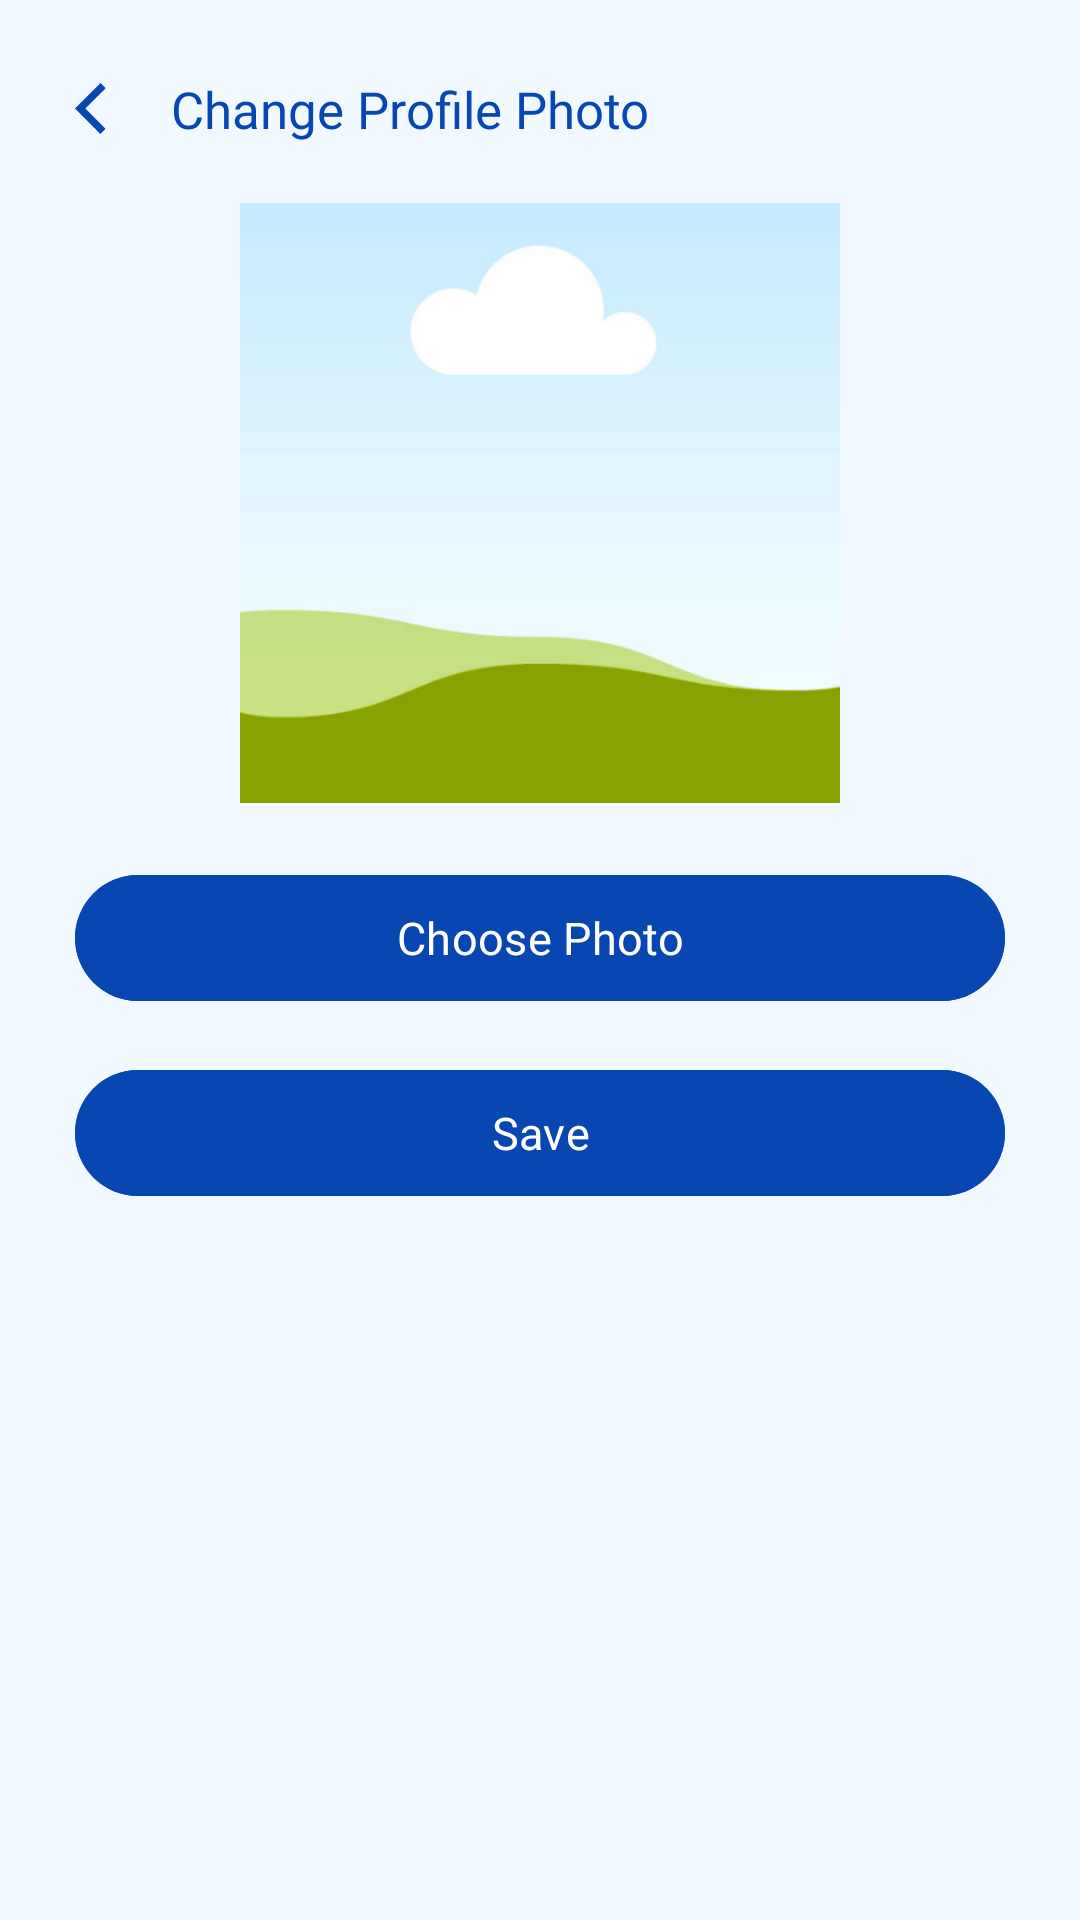

Screen size 1080px×1920px. Icon name, then its box in pixels as (x1, y1, x2, y2):
return: (75, 83, 106, 134)
